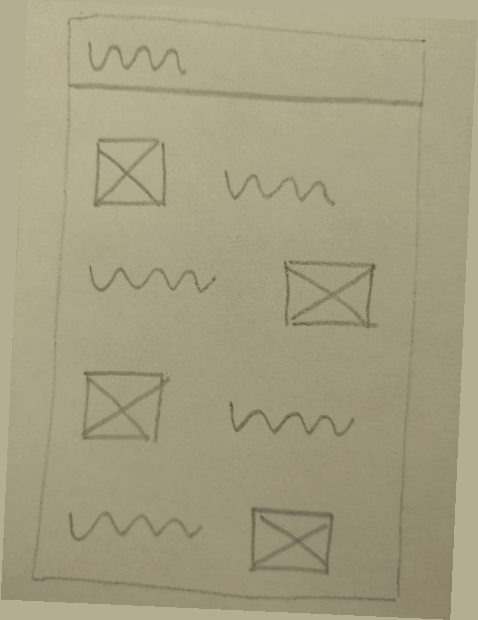image: (236, 500, 344, 582), (274, 252, 383, 333), (70, 365, 178, 446), (85, 131, 174, 215)
text: (79, 251, 221, 299), (61, 504, 206, 551), (215, 398, 360, 445), (217, 162, 342, 212), (80, 36, 190, 80)
